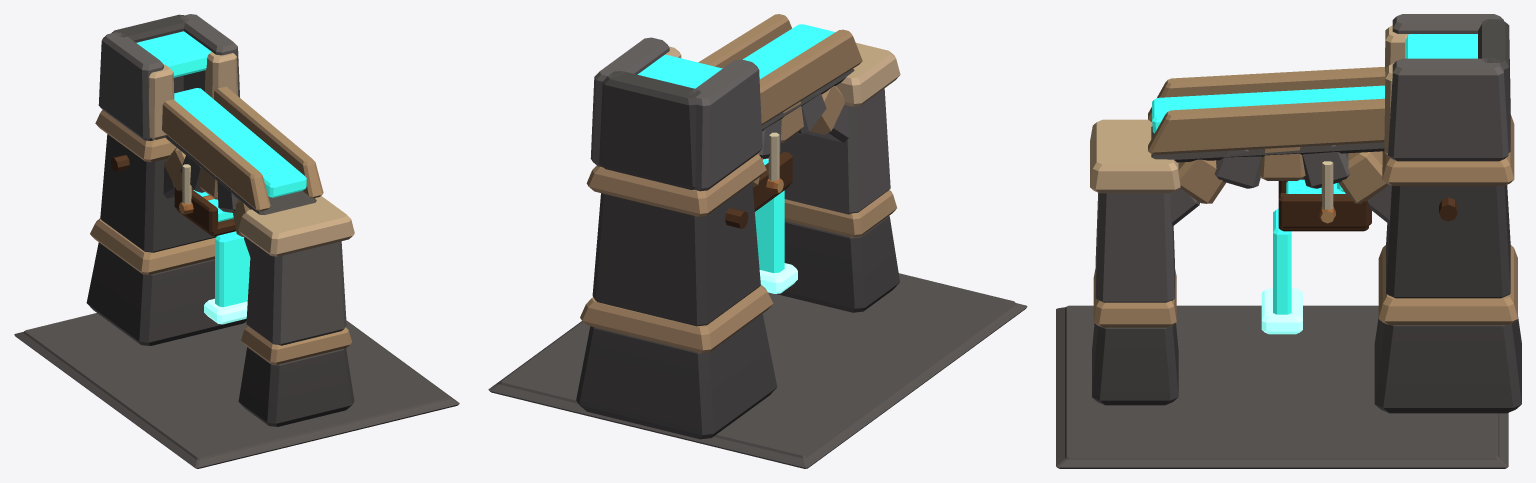
Rendered from quench_sorter.glb.
3 views of the same model, side by side, from view 1: azimuth 30°, elevation 25°; view 2: azimuth 150°, elevation 25°; view 3: azimuth 270°, elevation 25° (orthographic). The views are drawn at different scales.
Visible parts, largest first — view 1: QuenchSorter_Static, Anim_WaterCurtain, AnimatedPart; view 2: QuenchSorter_Static, Anim_WaterCurtain, AnimatedPart; view 3: QuenchSorter_Static, AnimatedPart, Anim_WaterCurtain.
Part boxes in pixels (x1,y1,x2,y2): QuenchSorter_Static: (14, 14, 459, 468); Anim_WaterCurtain: (204, 231, 250, 324); AnimatedPart: (174, 187, 235, 236); QuenchSorter_Static: (488, 14, 1027, 468); Anim_WaterCurtain: (755, 190, 797, 293); AnimatedPart: (752, 152, 792, 211); QuenchSorter_Static: (1056, 14, 1521, 468); AnimatedPart: (1278, 178, 1371, 231); Anim_WaterCurtain: (1261, 208, 1302, 334).
Size of the model in its own units: 2 by 2.04 by 2.47.
